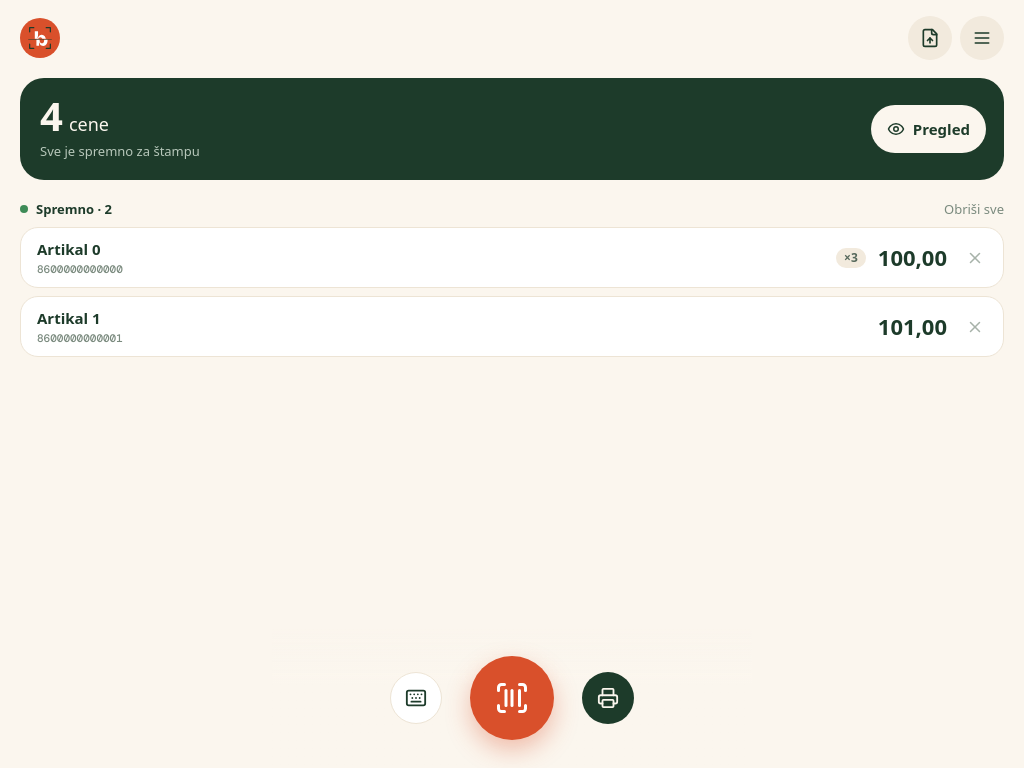
Home › brings a removed row back with its copies
Step 1. Click the button named "Ukloni" in the row of "Artikal 0" → {"x": 975, "y": 258}, box [959,242,991,274]
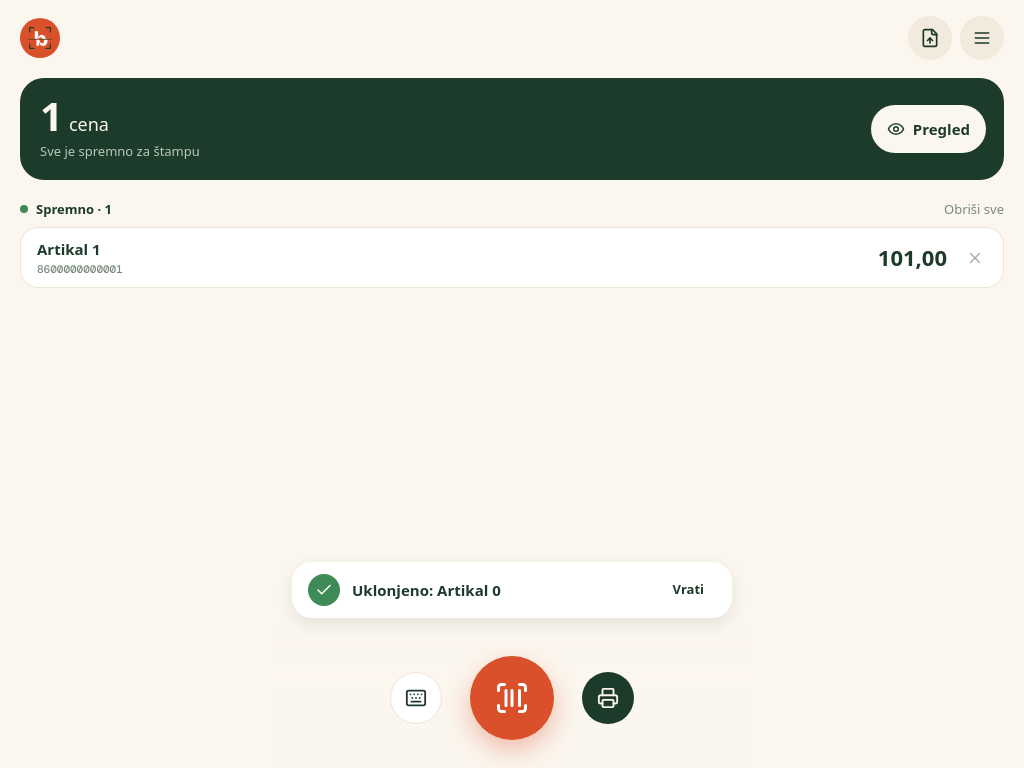
Result: the text "1" is shown at [40,96,63,136]
Step 2. Click the button "Vrati" → {"x": 688, "y": 590}, box [661,574,716,606]
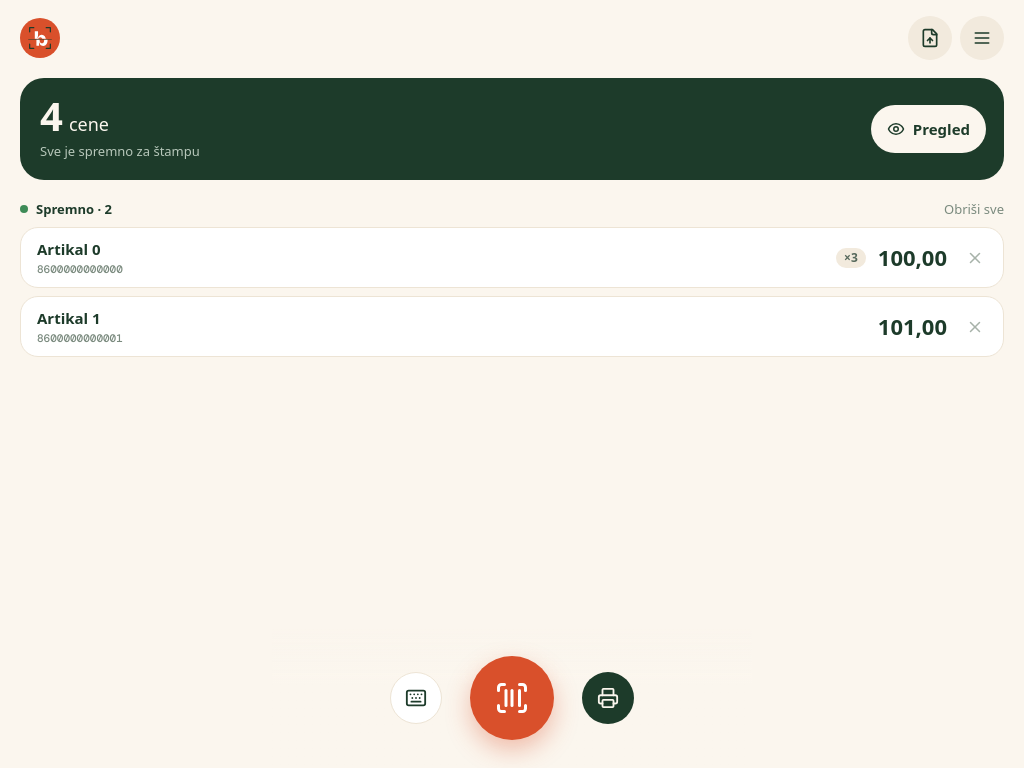
Expected: the text "4" is shown, [40,96,63,136]
Result: the text "×3" is shown at [836,248,866,268]
